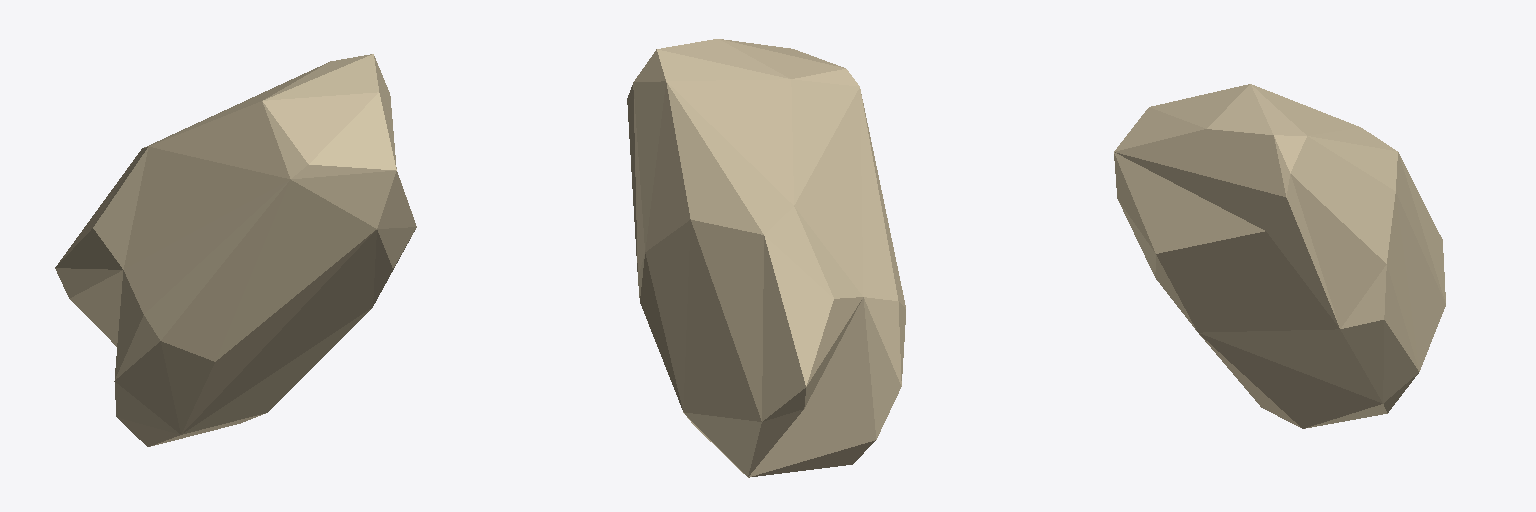
The picture shows the model from 3 angles: view 1: azimuth 30°, elevation 25°; view 2: azimuth 150°, elevation 25°; view 3: azimuth 270°, elevation 25°; orthographic projection.
Parts seen in each view (by area): view 1: 突起物（左）; view 2: 突起物（左）; view 3: 突起物（左）.
Boxes of the visible parts, <box> form: 突起物（左）: <box>55,54,416,446</box>; 突起物（左）: <box>627,39,905,477</box>; 突起物（左）: <box>1114,84,1445,428</box>.
Size of the model in its own units: 0.7093 by 0.8695 by 0.7418.
Materials: 1 (1 with a texture image).